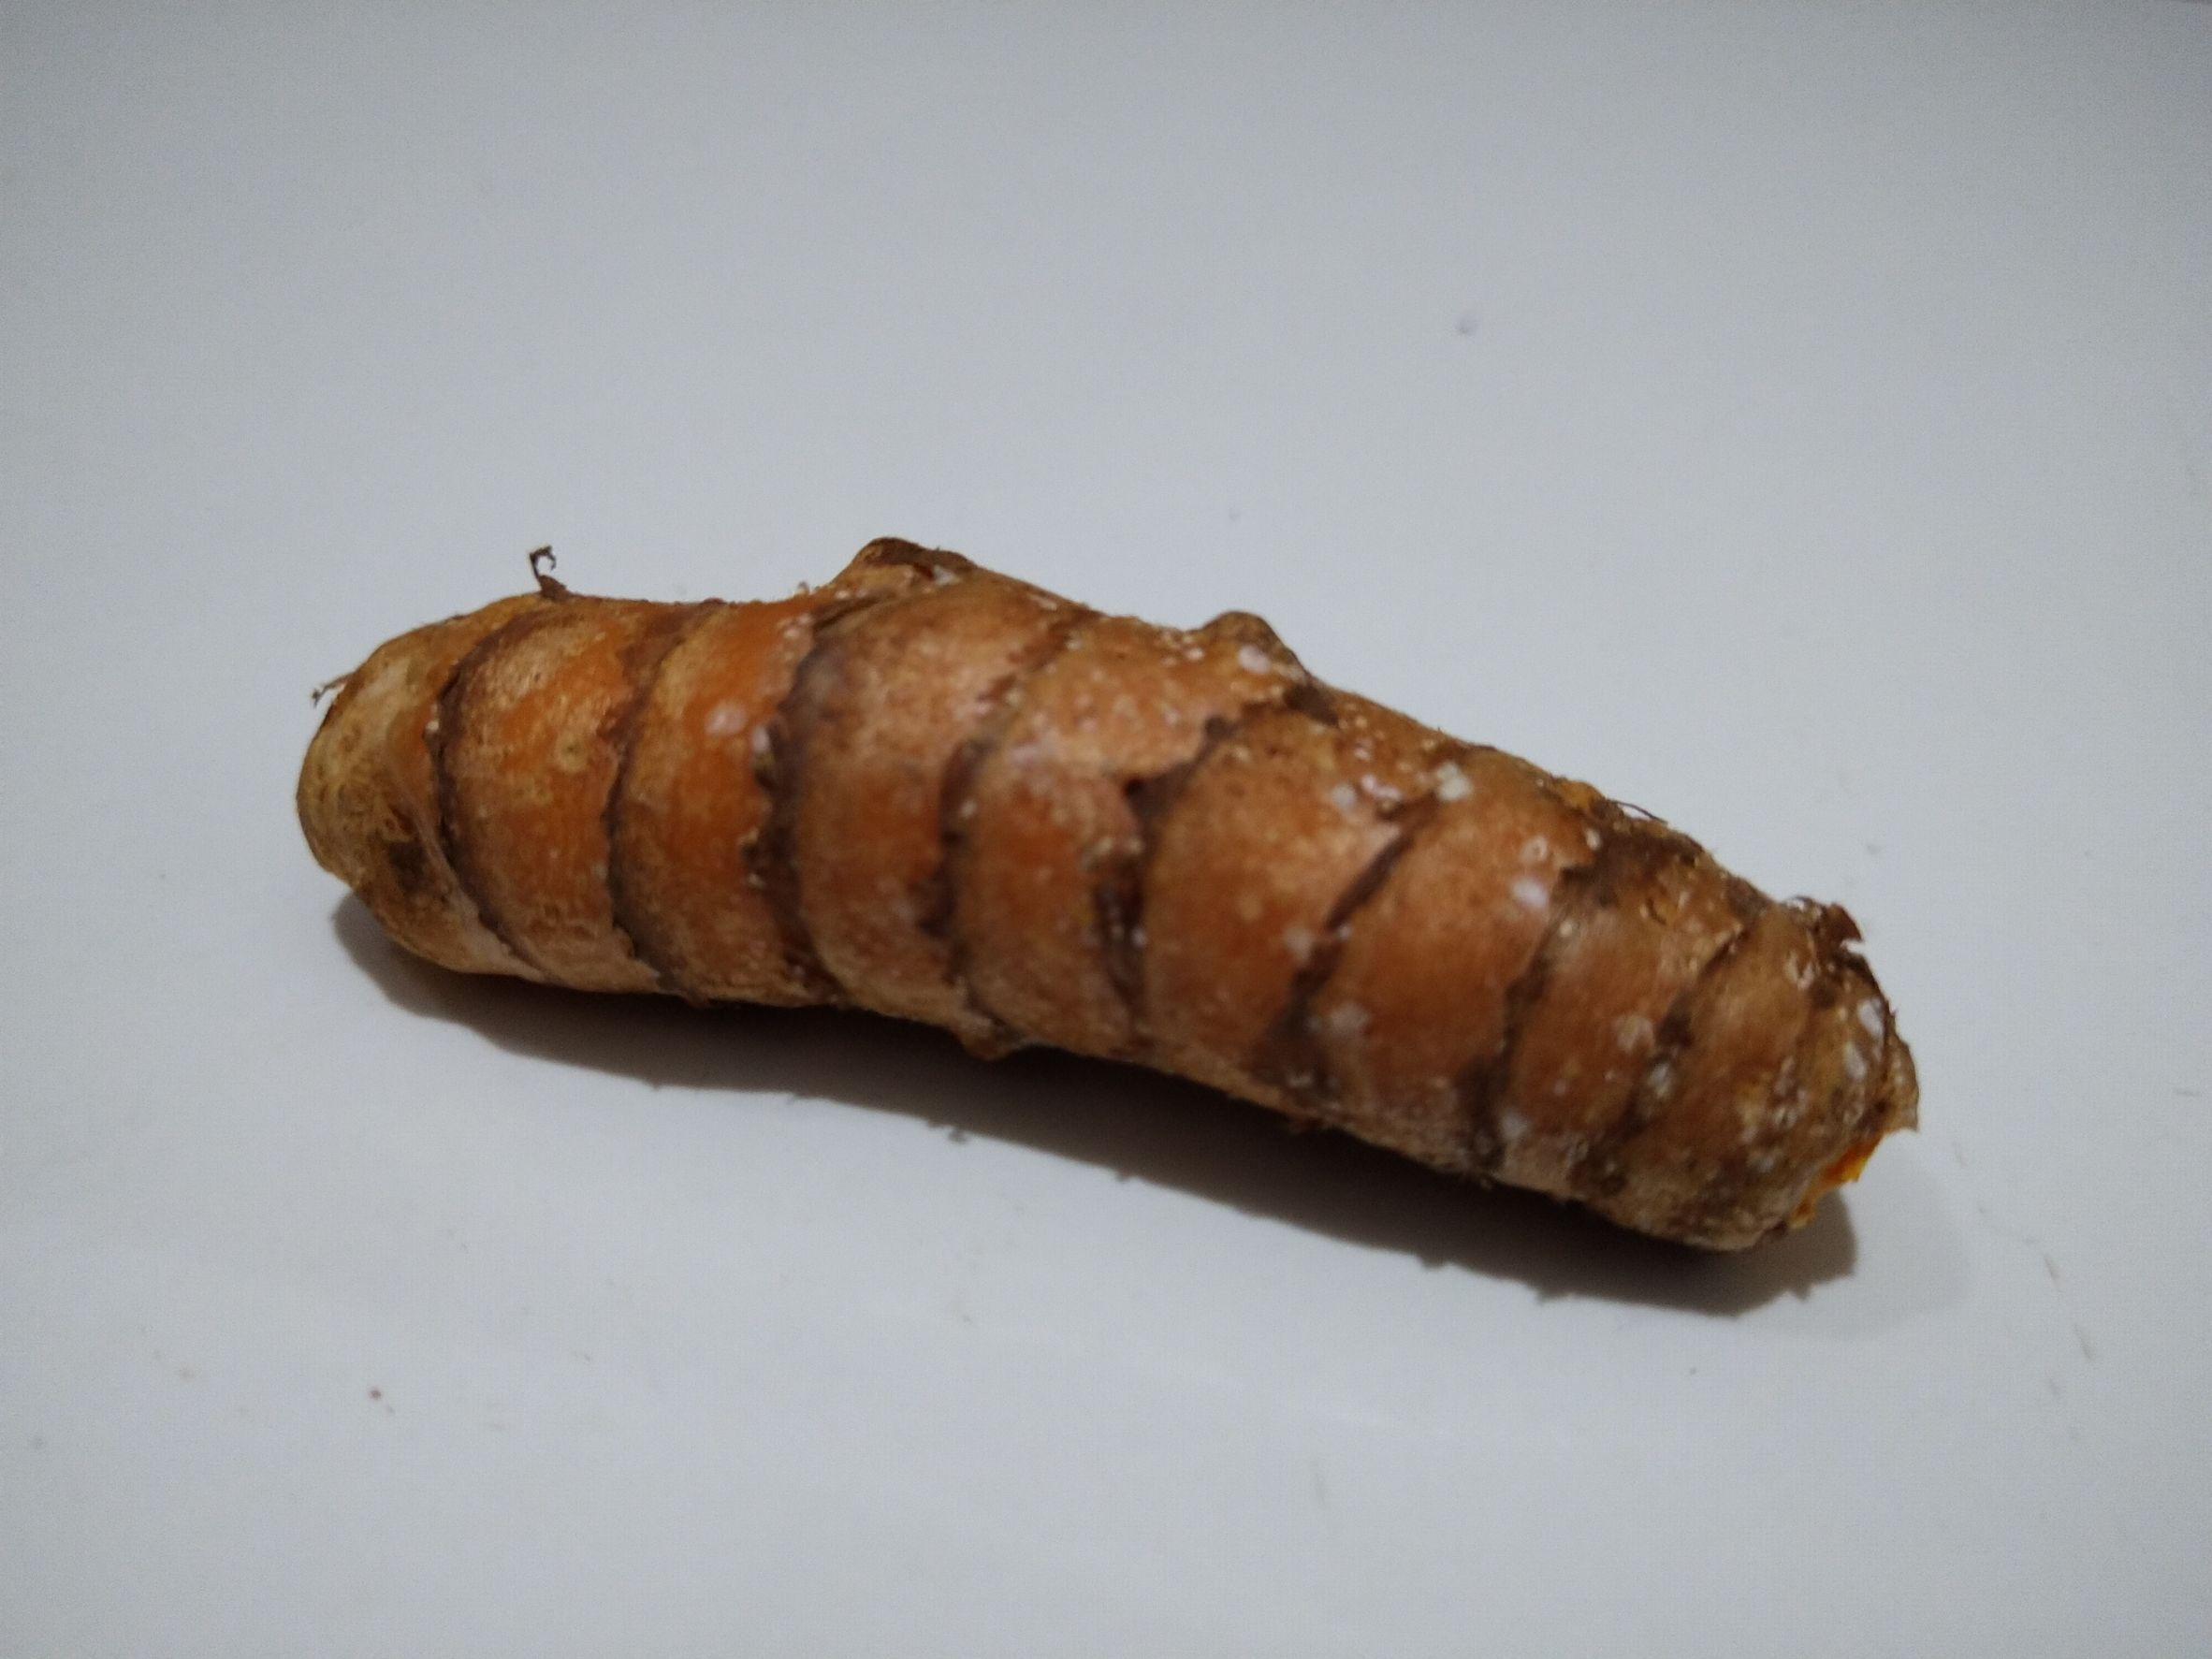Kunyit: (298, 561, 1886, 1316)
